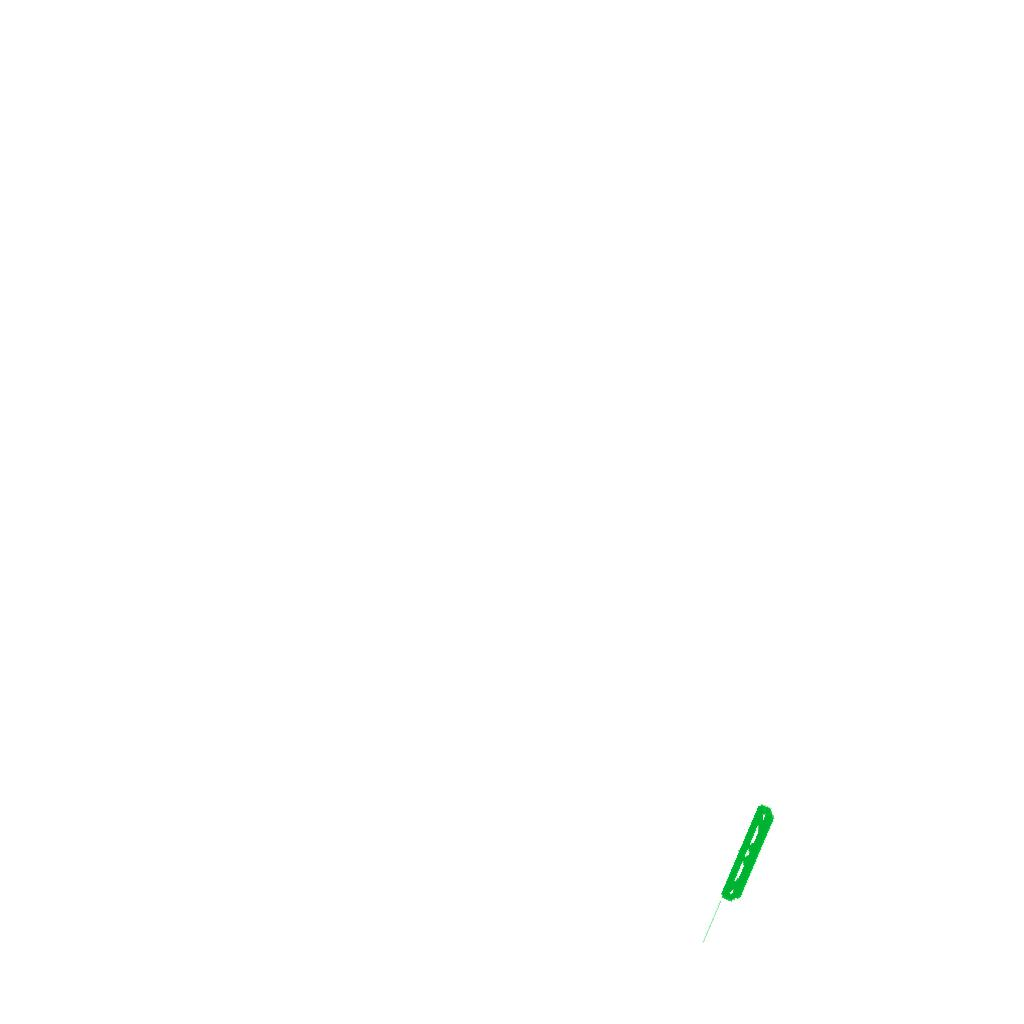Sicherheitsleuchte_Wandeinbau: (696, 799, 783, 956)
